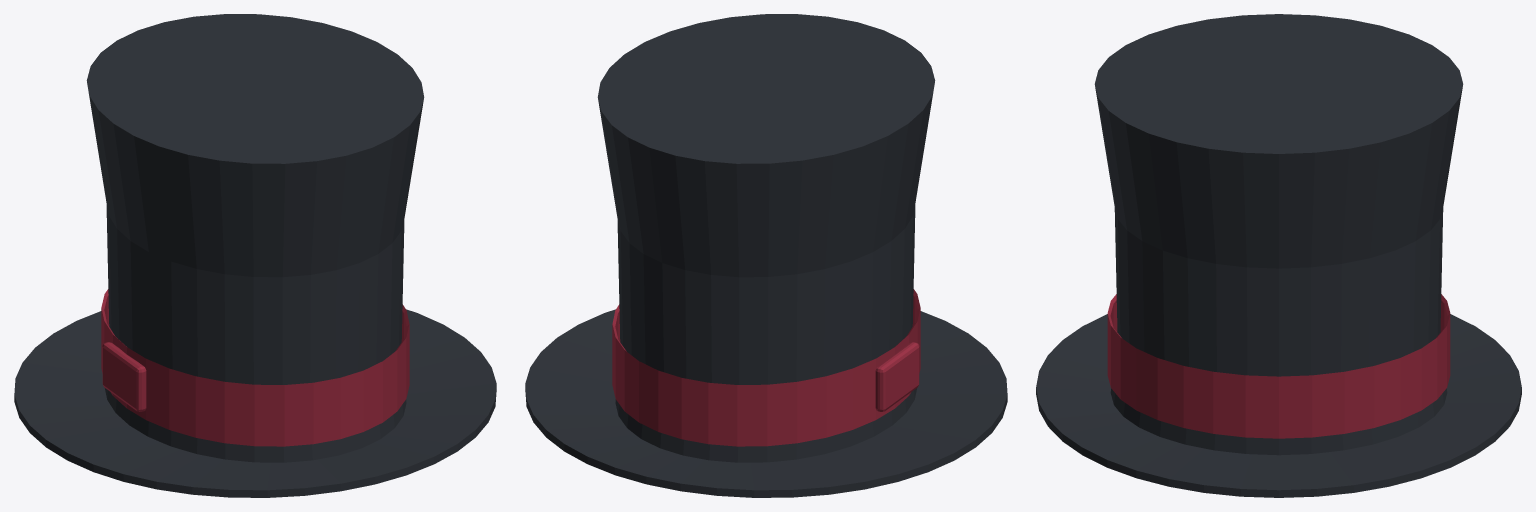
Rendered from hat_top_hat.glb.
3 views of the same model, side by side, from view 1: azimuth 30°, elevation 25°; view 2: azimuth 150°, elevation 25°; view 3: azimuth 270°, elevation 25° (orthographic).
Parts seen in each view (by area): view 1: TopHat_Tall_Open_Crown, TopHat_Brim, TopHat_Wide_Ribbon, TopHat_Bow; view 2: TopHat_Tall_Open_Crown, TopHat_Brim, TopHat_Wide_Ribbon, TopHat_Bow; view 3: TopHat_Tall_Open_Crown, TopHat_Brim, TopHat_Wide_Ribbon.
Boxes of the visible parts, <box> form: TopHat_Tall_Open_Crown: <box>86,14,424,462</box>; TopHat_Brim: <box>14,309,496,497</box>; TopHat_Wide_Ribbon: <box>101,289,409,446</box>; TopHat_Bow: <box>102,342,146,411</box>; TopHat_Tall_Open_Crown: <box>597,14,935,462</box>; TopHat_Brim: <box>525,309,1007,497</box>; TopHat_Wide_Ribbon: <box>612,289,920,446</box>; TopHat_Bow: <box>875,342,919,411</box>; TopHat_Tall_Open_Crown: <box>1094,14,1463,455</box>; TopHat_Brim: <box>1036,314,1521,497</box>; TopHat_Wide_Ribbon: <box>1107,294,1450,438</box>.
Bounding box in the file's own units: 0.342 × 0.245 × 0.34.
